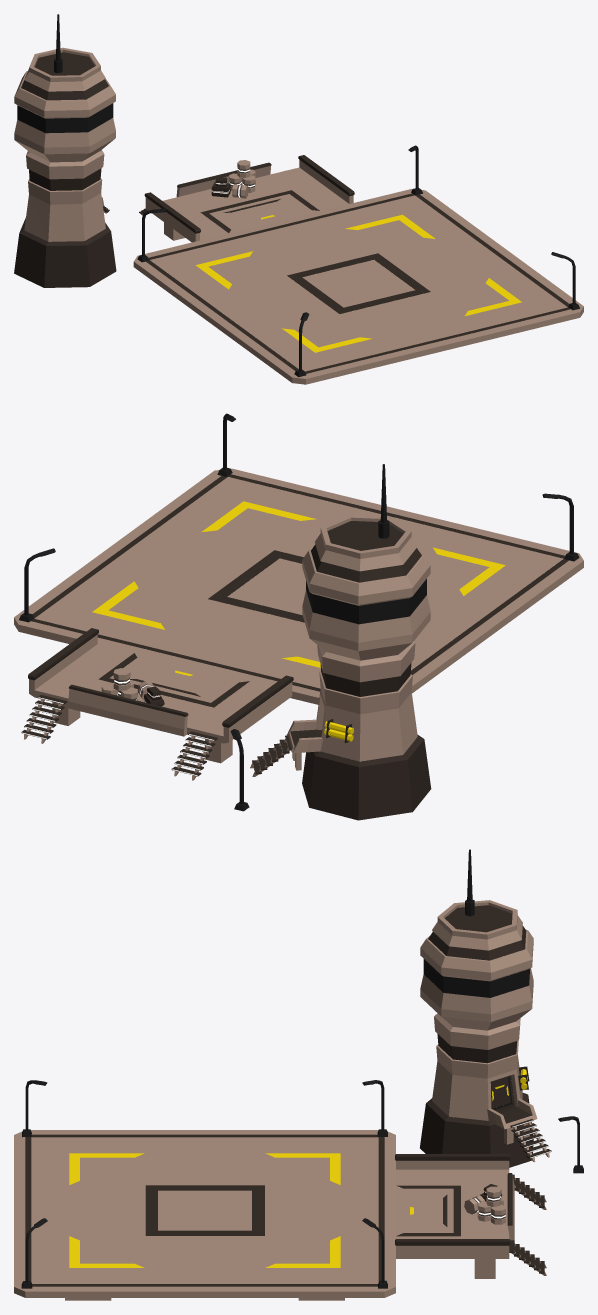
File: stylized_low_poly_sci-fi_buildings-c-11.glb
3 renders of one model, top to bottom at view 1: azimuth 30°, elevation 25°; view 2: azimuth 150°, elevation 25°; view 3: azimuth 270°, elevation 25°, orthographic. The views are drawn at different scales.
Parts seen in each view (by area): view 1: Cube.018_0; view 2: Cube.018_0; view 3: Cube.018_0.
Part boxes in pixels (<box>): Cube.018_0: <box>14,14,583,384</box>; Cube.018_0: <box>14,413,583,820</box>; Cube.018_0: <box>14,849,583,1300</box>.
Bounding box in the file's own units: 31.3 × 21.41 × 37.51.
